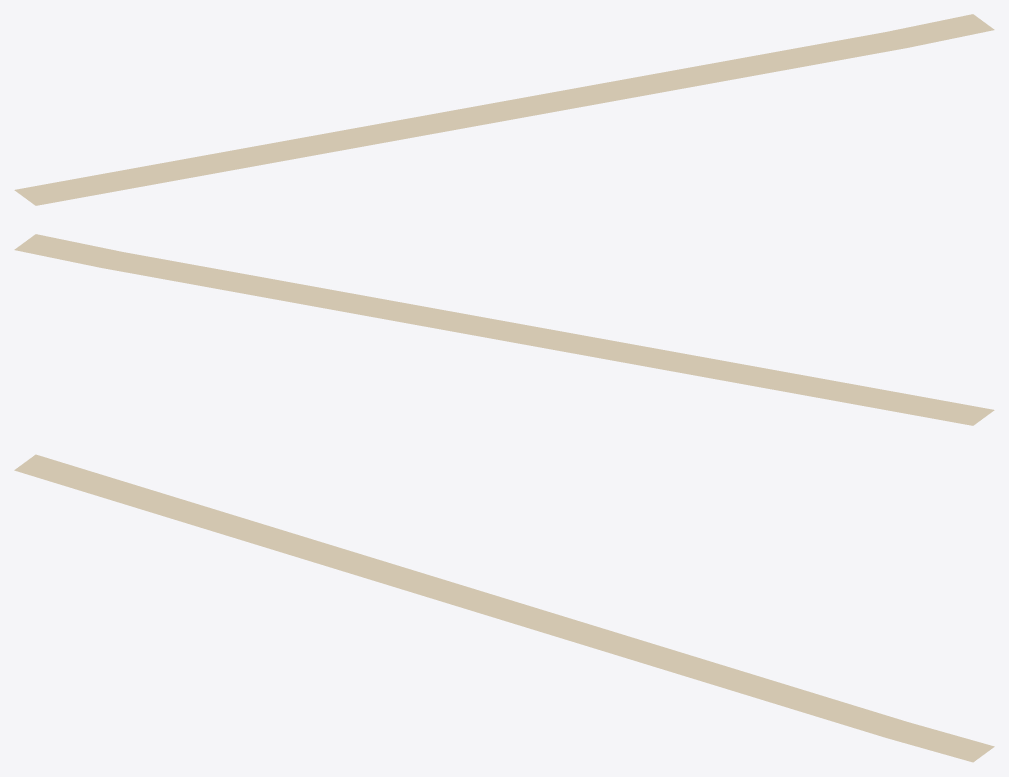
The model's file is eb_path_2080.glb.
The picture shows the model from 3 angles, top to bottom: view 1: azimuth 30°, elevation 25°; view 2: azimuth 150°, elevation 25°; view 3: azimuth 330°, elevation 25°; orthographic projection.
Parts seen in each view (by area): view 1: eb_path_2080_lod0; view 2: eb_path_2080_lod0; view 3: eb_path_2080_lod0.
Part boxes in pixels (x1,y1,x2,y2): eb_path_2080_lod0: (14,14,994,205); eb_path_2080_lod0: (14,234,994,425); eb_path_2080_lod0: (14,454,994,762).
Size of what is drawn, in the model's own units: 66 by 3.82 by 2.6.
